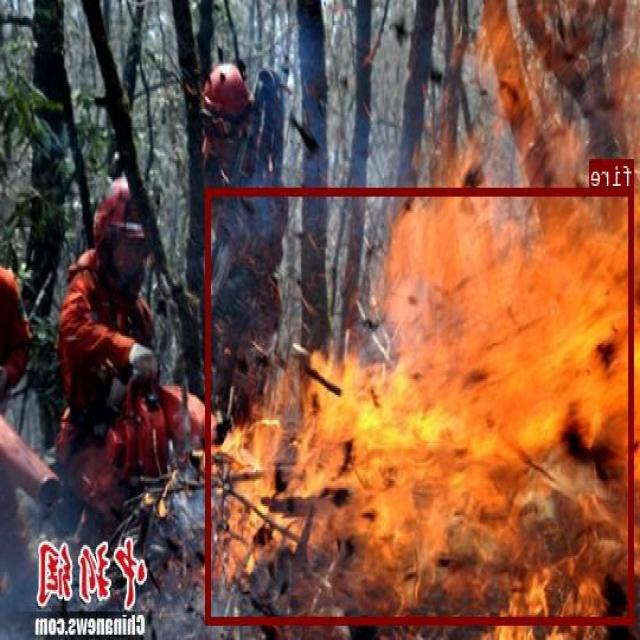fire: (208, 186, 634, 623)
